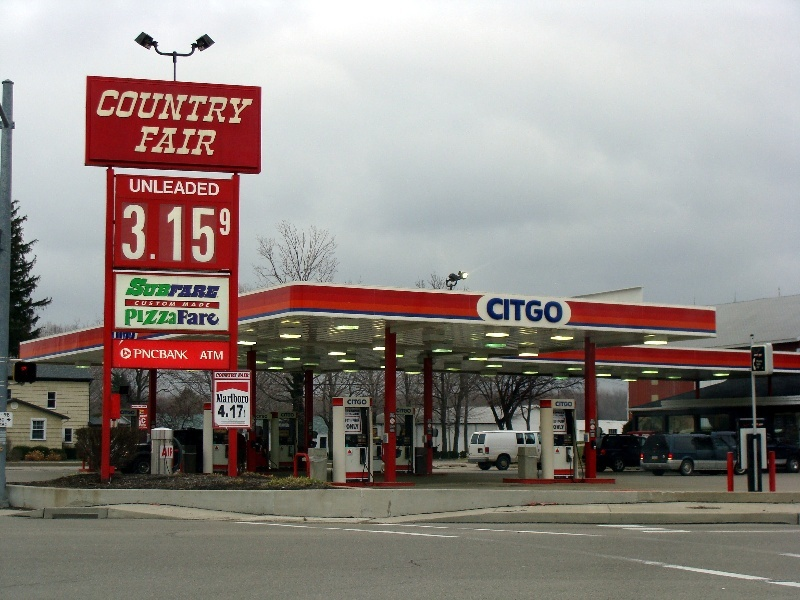text: (129, 204, 144, 263), (145, 204, 160, 263), (161, 204, 176, 263), (177, 204, 192, 263), (193, 204, 208, 263), (209, 204, 224, 263), (113, 89, 128, 125), (129, 89, 144, 125), (145, 89, 160, 125), (161, 89, 176, 125), (177, 89, 192, 125), (193, 89, 208, 125), (209, 89, 224, 125), (225, 89, 240, 125), (145, 125, 160, 158), (161, 125, 176, 158), (177, 125, 192, 158), (193, 125, 208, 158), (241, 89, 254, 125), (225, 204, 232, 263), (497, 297, 512, 324), (513, 297, 528, 324), (529, 297, 544, 324), (545, 297, 560, 324), (209, 125, 220, 158), (122, 204, 128, 263), (145, 278, 160, 299), (161, 278, 176, 299), (177, 278, 192, 299), (193, 278, 208, 299), (130, 278, 144, 299), (209, 278, 223, 299), (145, 178, 160, 197), (161, 178, 176, 197), (177, 178, 192, 197), (193, 178, 208, 197), (129, 308, 144, 327), (145, 308, 160, 327), (161, 308, 176, 327), (177, 308, 192, 327), (193, 308, 208, 327), (130, 178, 144, 197), (105, 89, 112, 125), (487, 297, 496, 324), (225, 404, 240, 418), (209, 178, 220, 197), (209, 308, 220, 327), (145, 349, 160, 360), (161, 349, 176, 360), (225, 393, 240, 403), (162, 447, 176, 457), (209, 351, 224, 360), (177, 349, 189, 360), (134, 349, 144, 360), (353, 399, 368, 406), (161, 301, 177, 307), (241, 393, 250, 403), (145, 301, 160, 307), (193, 302, 208, 308), (218, 404, 224, 418), (561, 297, 564, 324), (216, 393, 224, 403), (353, 418, 368, 423), (200, 351, 208, 360), (561, 401, 573, 407), (401, 408, 412, 414), (142, 125, 144, 158), (225, 373, 238, 378), (4, 413, 16, 418), (1, 418, 16, 422), (1, 423, 16, 427), (125, 308, 128, 327), (183, 302, 192, 308), (390, 429, 400, 434), (136, 301, 144, 307), (756, 366, 768, 370), (241, 373, 250, 378), (257, 415, 268, 419), (389, 425, 400, 429), (241, 404, 244, 418), (754, 354, 768, 357), (216, 373, 224, 378), (390, 415, 400, 419), (353, 424, 359, 430), (281, 413, 288, 418), (121, 410, 128, 415), (553, 425, 560, 430), (757, 360, 768, 363), (347, 424, 352, 430), (346, 418, 352, 423), (289, 413, 295, 418), (129, 410, 135, 415), (555, 401, 560, 407), (390, 413, 400, 416), (348, 399, 352, 406), (227, 420, 240, 422), (396, 408, 400, 414), (132, 406, 144, 408), (554, 420, 560, 424), (554, 414, 560, 418), (757, 364, 768, 366), (353, 413, 360, 416), (353, 410, 360, 413), (141, 418, 144, 425), (553, 412, 560, 415), (561, 425, 565, 430), (561, 420, 566, 424), (427, 420, 432, 424), (561, 414, 565, 418), (593, 431, 597, 435), (347, 410, 352, 413), (561, 412, 566, 415), (593, 420, 596, 425), (145, 418, 147, 425), (209, 302, 211, 308), (140, 415, 144, 418), (429, 431, 432, 435), (593, 434, 596, 438), (238, 373, 240, 378), (590, 420, 592, 425), (349, 413, 352, 416), (145, 415, 148, 418), (558, 420, 560, 424), (428, 429, 432, 431), (590, 431, 592, 435), (142, 425, 144, 428), (145, 425, 147, 428), (145, 406, 147, 408), (591, 434, 592, 438)
